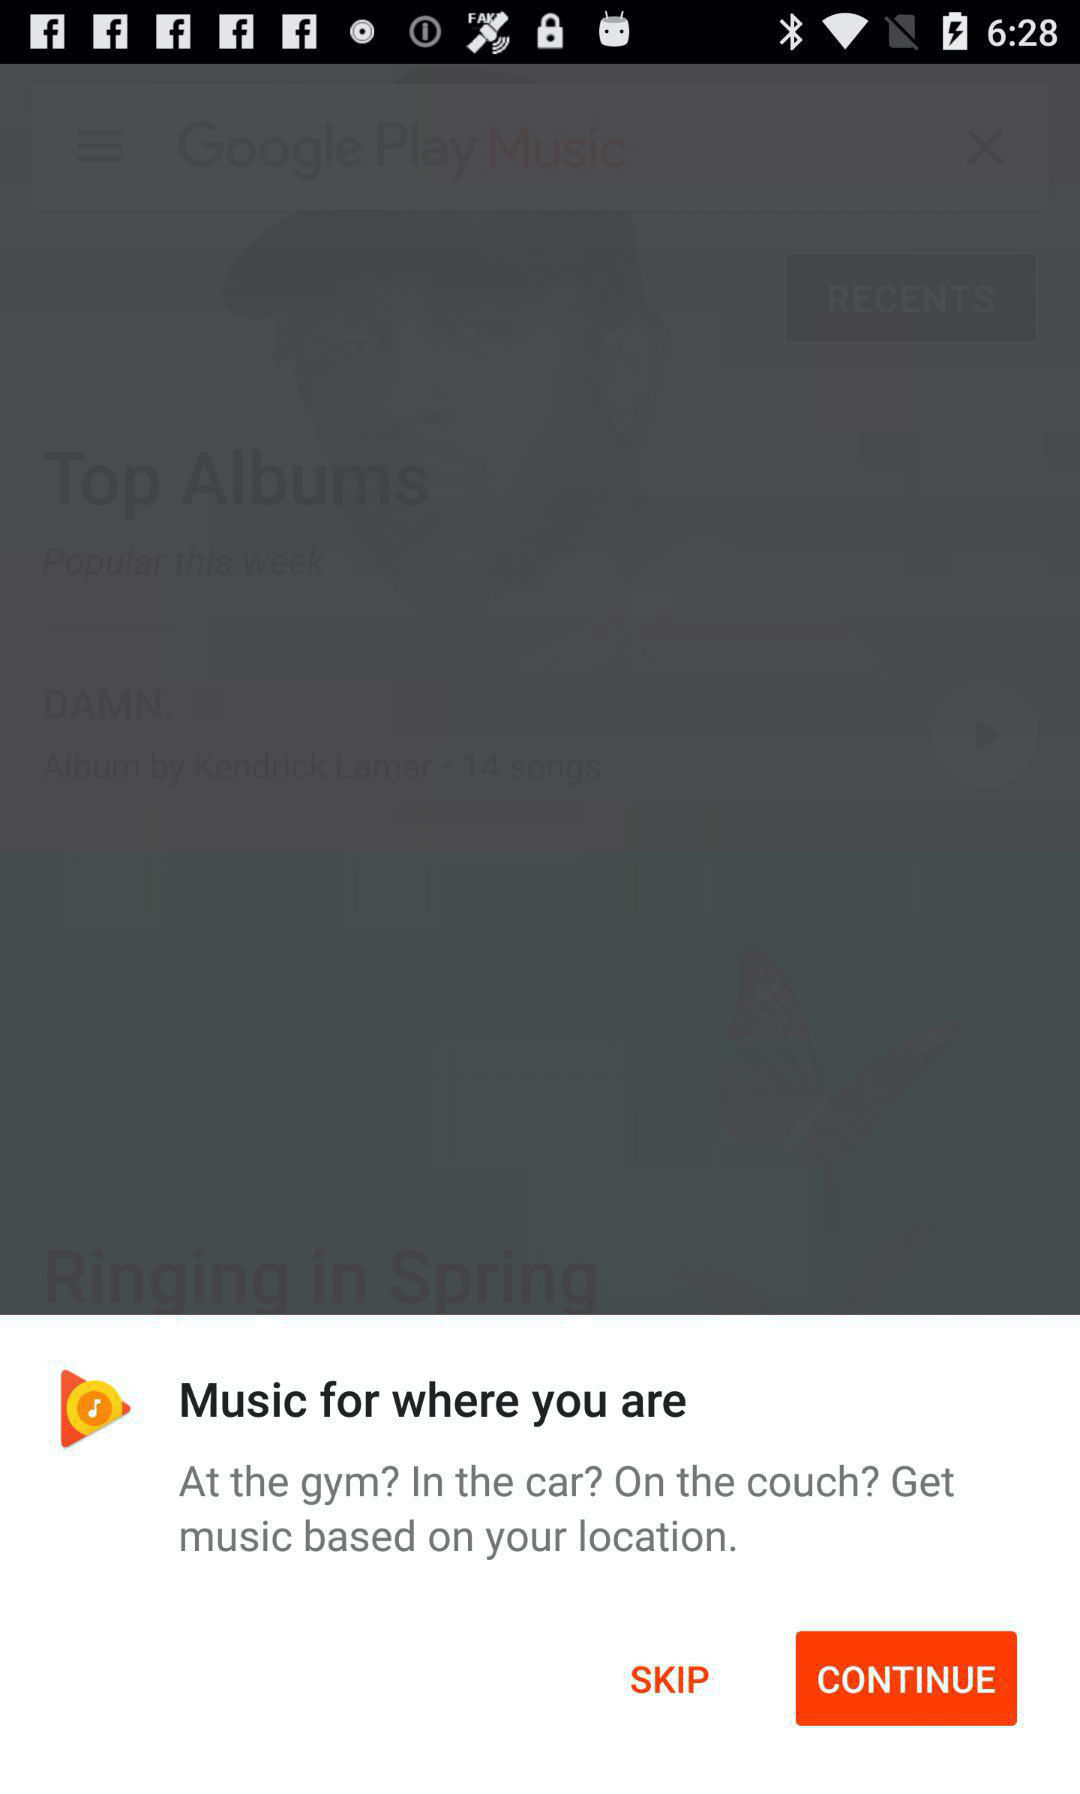Image: (61, 1369, 133, 1449)
Modal: (1, 1313, 1080, 1794)
Text: (178, 1463, 956, 1562), (181, 1379, 688, 1428), (630, 1665, 711, 1695)
TextButton: (796, 1630, 1019, 1727)
UpperTaskBar: (1, 1, 1080, 64)
